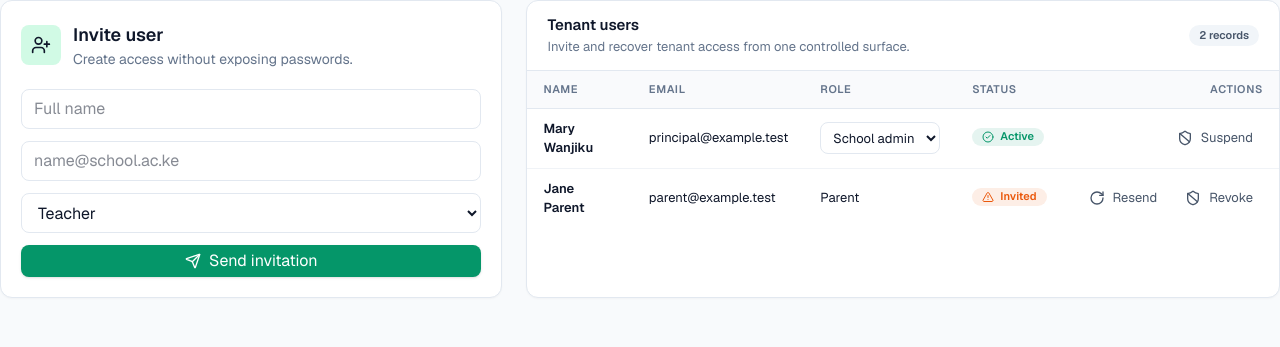
it: school user management › loads live tenant users and supports resend and revoke for pending invitations
The width and height of the screenshot is (1280, 347).
Check: the text "Mary Wanjiku" is shown, box [543, 120, 593, 156]
Check: the text "Jane Parent" is shown, box [543, 180, 584, 216]
Click the button with aria-label "resend jane parent". click: (1123, 198)
box: [1078, 184, 1167, 212]
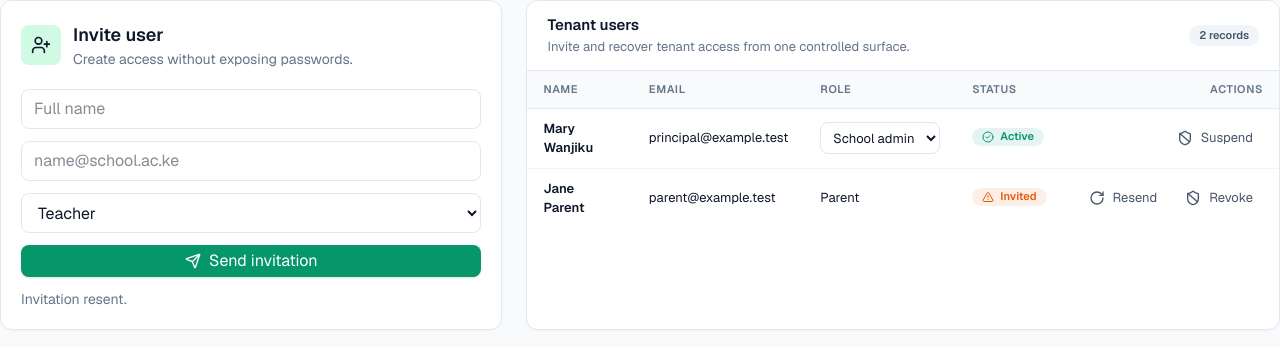
Check: the text "Invitation resent." is shown, box [21, 290, 127, 308]
Click the button with aria-label "revoke jane parent". click: (1219, 198)
box: [1175, 184, 1263, 212]
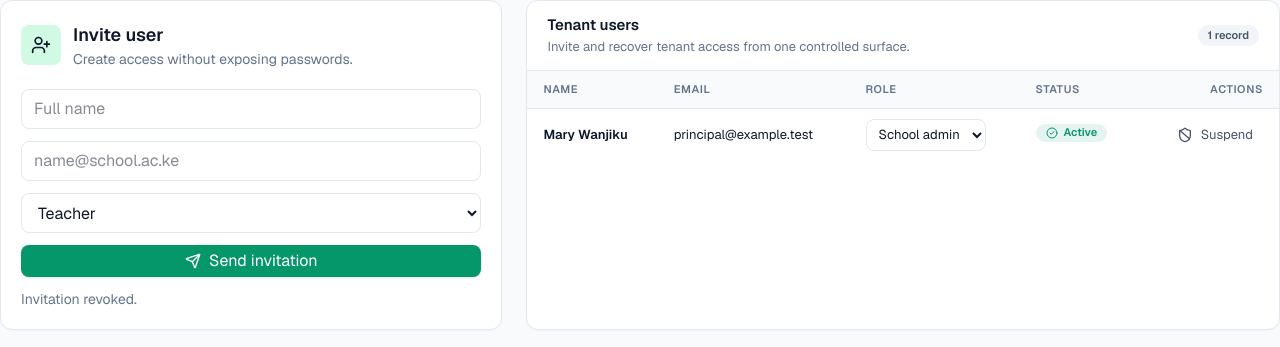
Check: the text "Jane Parent" is gone
